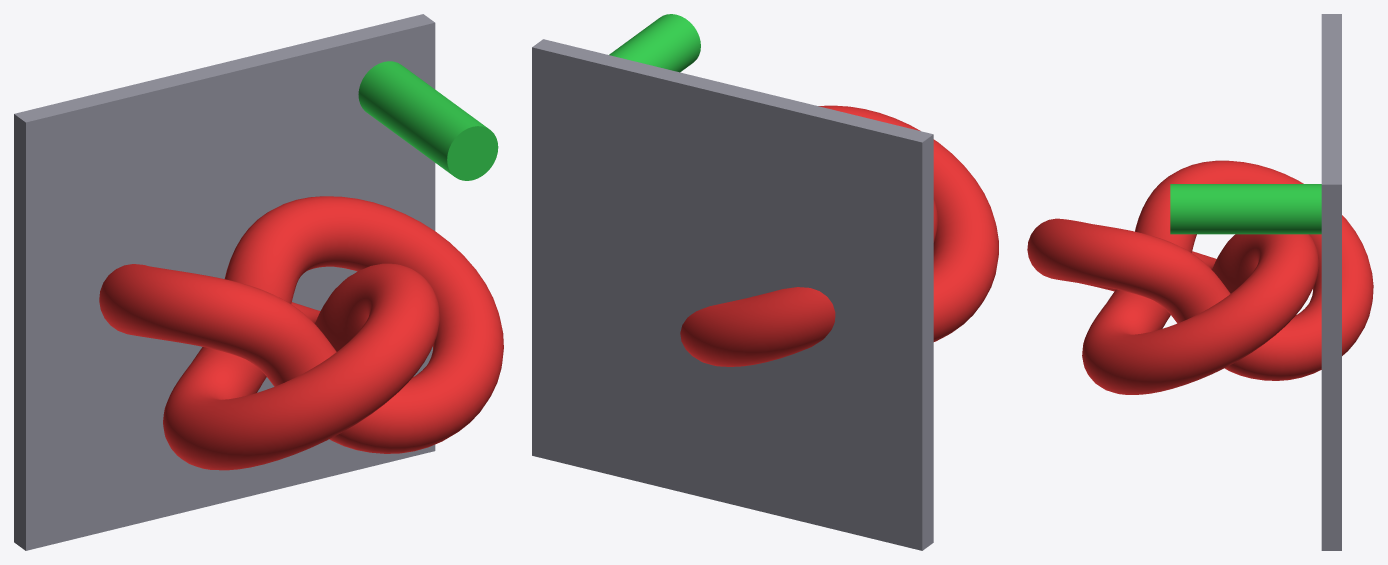
File: knot-assembly.obj
3 views of the same model, side by side, from view 1: azimuth 30°, elevation 25°; view 2: azimuth 150°, elevation 25°; view 3: azimuth 270°, elevation 25° (orthographic). The views are drawn at different scales.
Parts seen in each view (by area): view 1: Plate, Knot, Post; view 2: Plate, Knot, Post; view 3: Knot, Plate, Post.
Part boxes in pixels (x1=…): Plate: x1=14, y1=14, x2=435, y2=550; Knot: x1=99, y1=196, x2=503, y2=470; Post: x1=358, y1=61, x2=498, y2=180; Plate: x1=532, y1=39, x2=933, y2=550; Knot: x1=680, y1=105, x2=998, y2=366; Post: x1=609, y1=14, x2=700, y2=72; Knot: x1=1027, y1=160, x2=1373, y2=394; Plate: x1=1321, y1=14, x2=1341, y2=550; Post: x1=1170, y1=184, x2=1321, y2=234.
Size of the model in its own units: 80 by 80 by 68.55.
